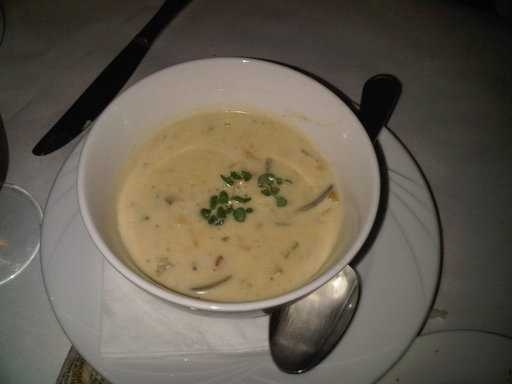soup: (111, 114, 337, 304)
